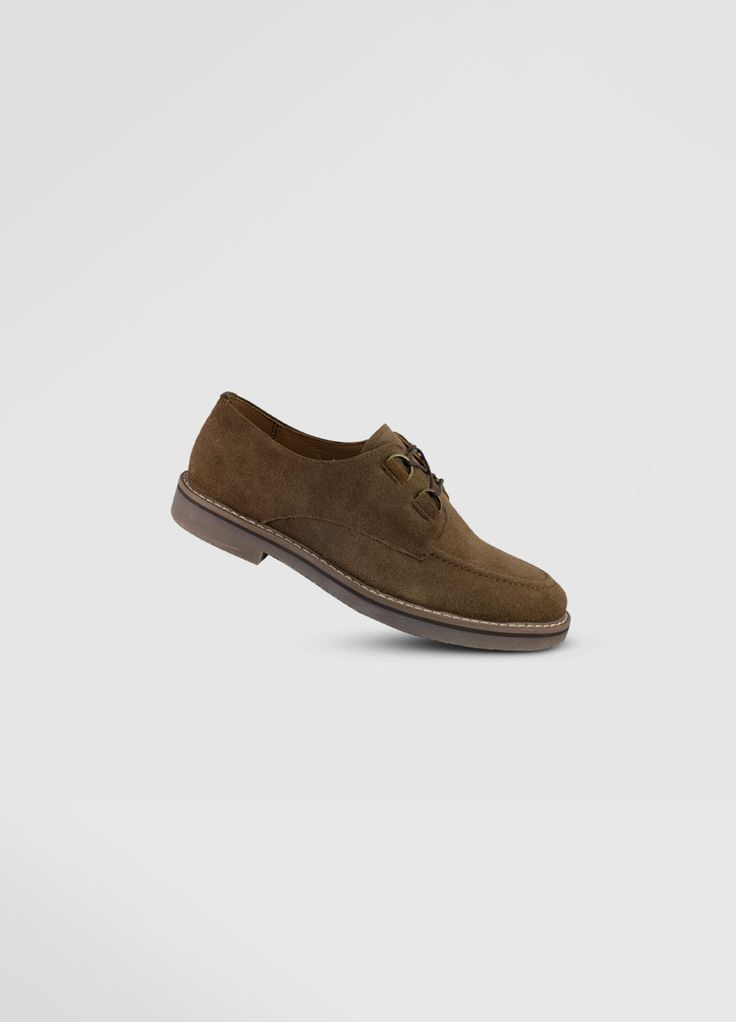gamuza: (187, 391, 568, 627)
